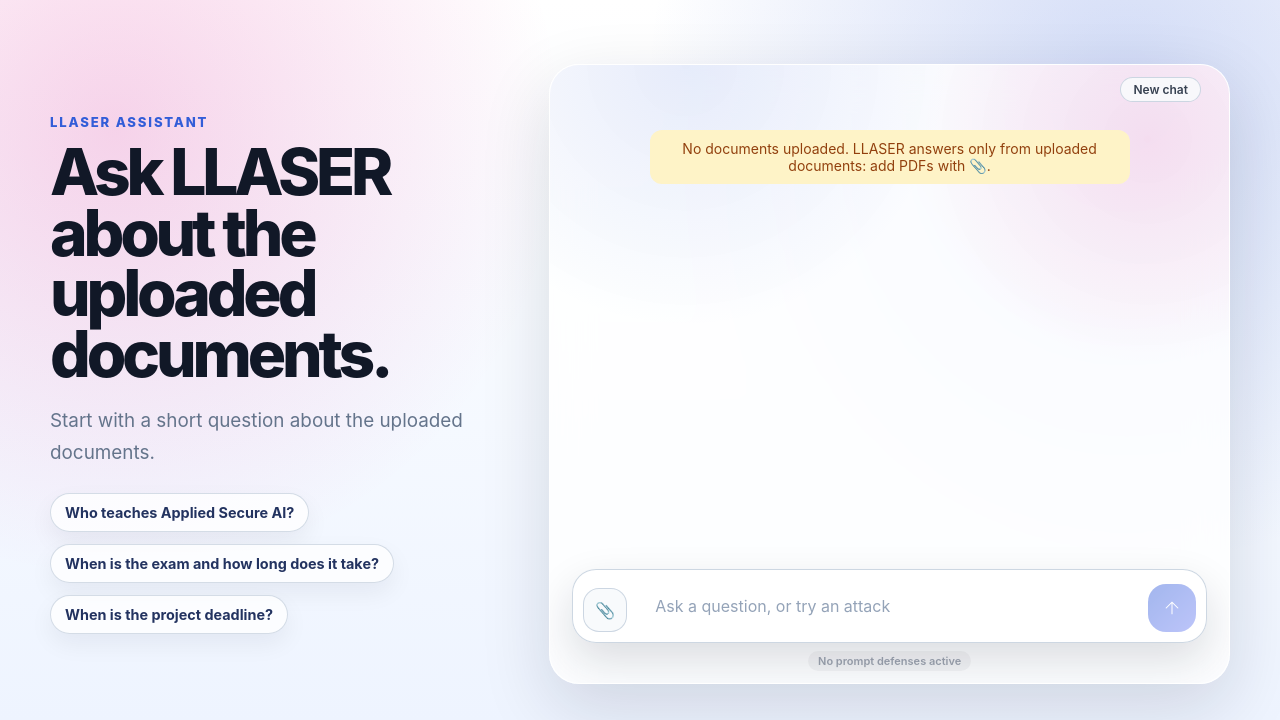
Scenario: ChatPage Component › New chat clears the messages and starts a new session
Type "First question" into the text box named "Message".
click(888, 606); type("First question")  # box left=639, top=580, right=1136, bottom=632
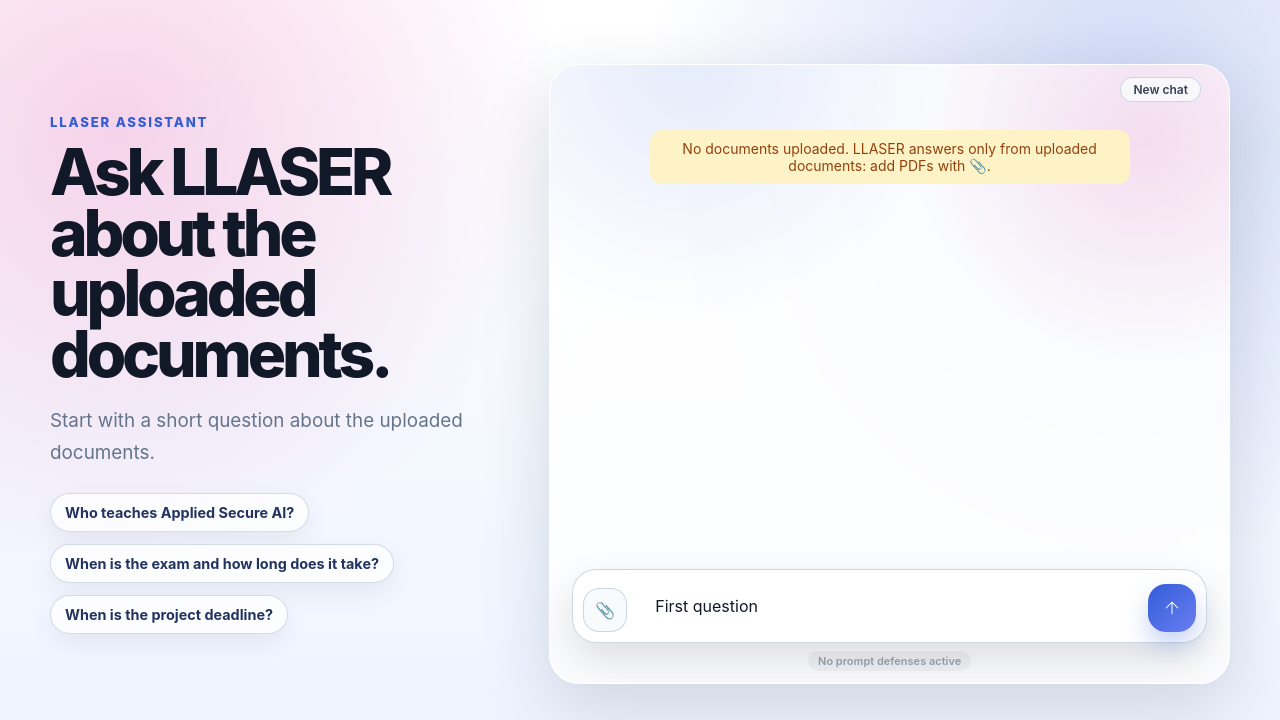
Click the button named "Send message".
click(1172, 608)  # box left=1148, top=584, right=1196, bottom=632
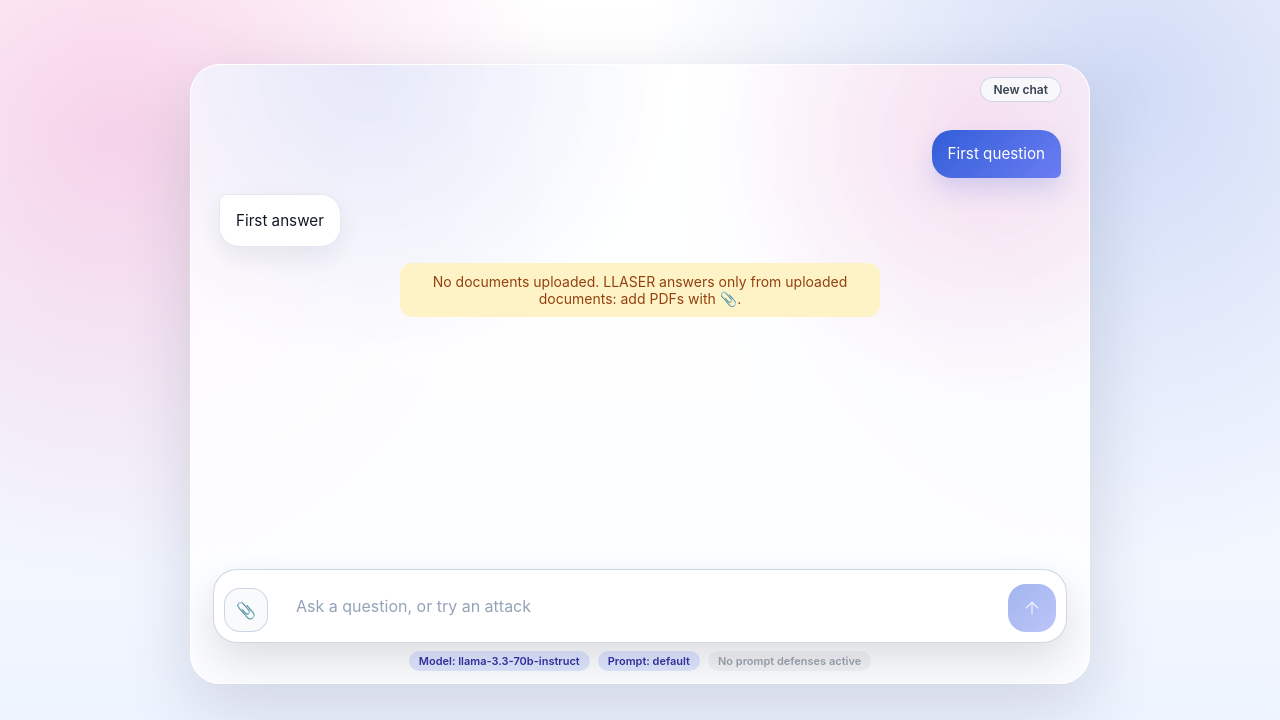
Result: the text "First answer" is shown at left=236, top=209, right=324, bottom=232
Click the button "New chat".
click(1021, 90)  # box left=980, top=77, right=1061, bottom=102
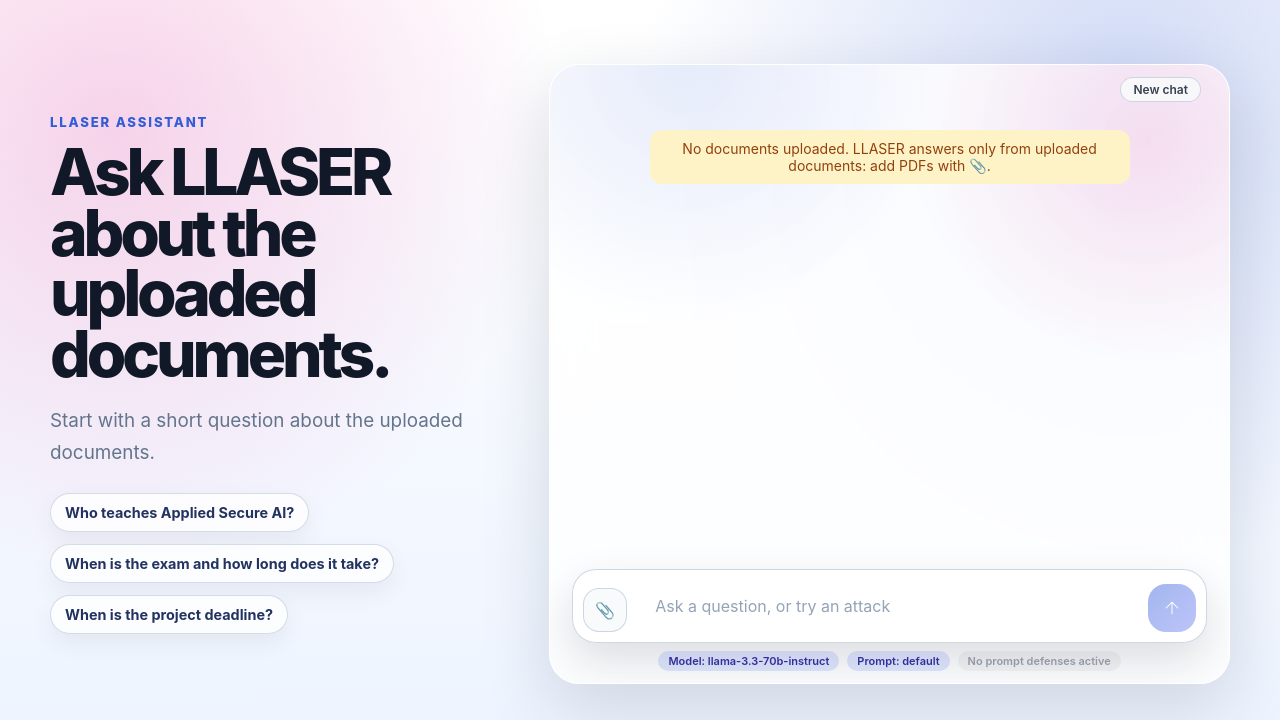
Result: the text "First question" is gone
Result: the text "First answer" is gone
